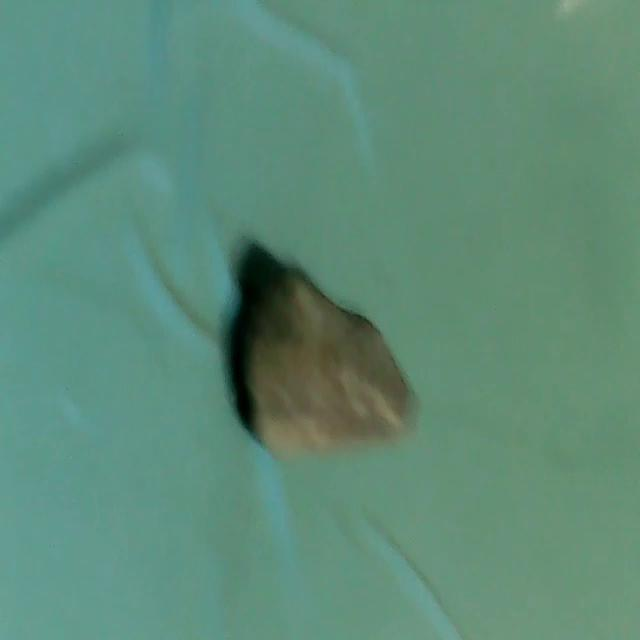rock: (228, 244, 424, 463)
